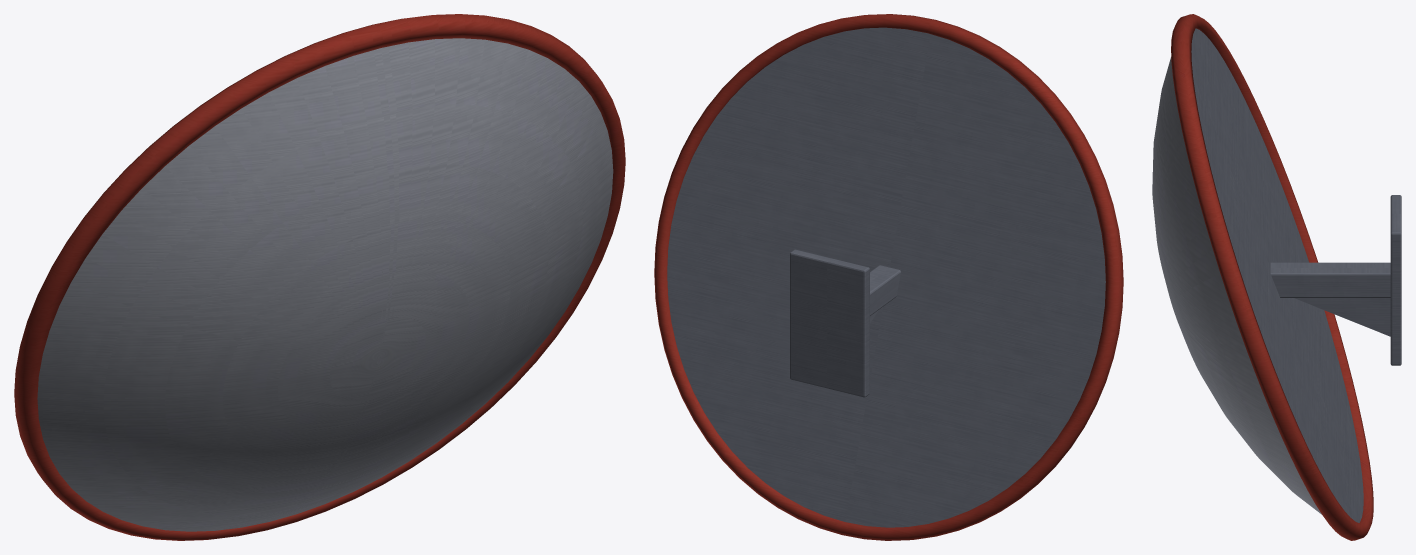
Rendered from convex_mirror.glb.
3 renders of one model, left to right at view 1: azimuth 30°, elevation 25°; view 2: azimuth 150°, elevation 25°; view 3: azimuth 270°, elevation 25°, orthographic. The views are drawn at different scales.
Parts seen in each view (by area): view 1: convex_mirror.001; view 2: convex_mirror.001; view 3: convex_mirror.001.
Part boxes in pixels (x1,y1,x2,y2): convex_mirror.001: [14, 14, 625, 540]; convex_mirror.001: [654, 14, 1123, 540]; convex_mirror.001: [1152, 14, 1401, 540].
Size of what is drawn, in the model's own units: 0.6 by 0.5672 by 0.2713.
Materials: 3 (3 with a texture image).
